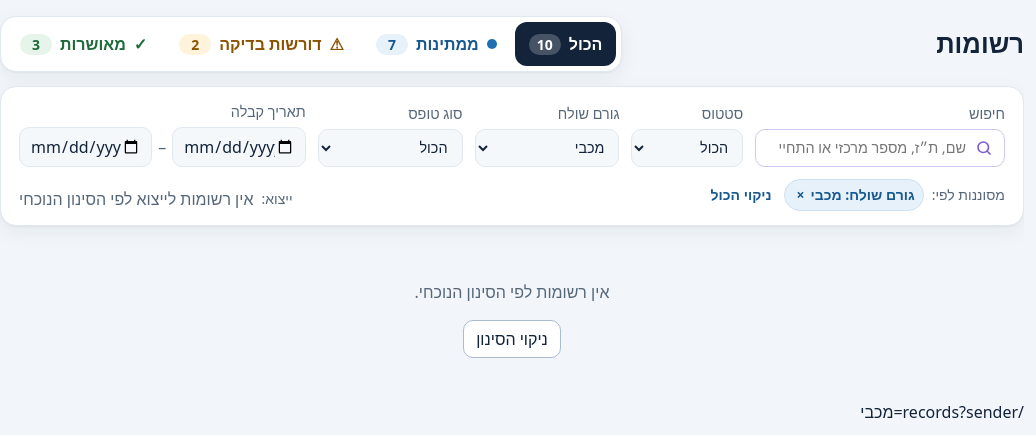
Test: RecordsPage › nothing under the filters says so, and offers to clear them
Expected: the text "אין רשומות לפי הסינון הנוכחי." is shown, x1=414 y1=281 x2=609 y2=303
Click the button "ניקוי הסינון". click: (512, 339)
box: x1=463 y1=320 x2=561 y2=358
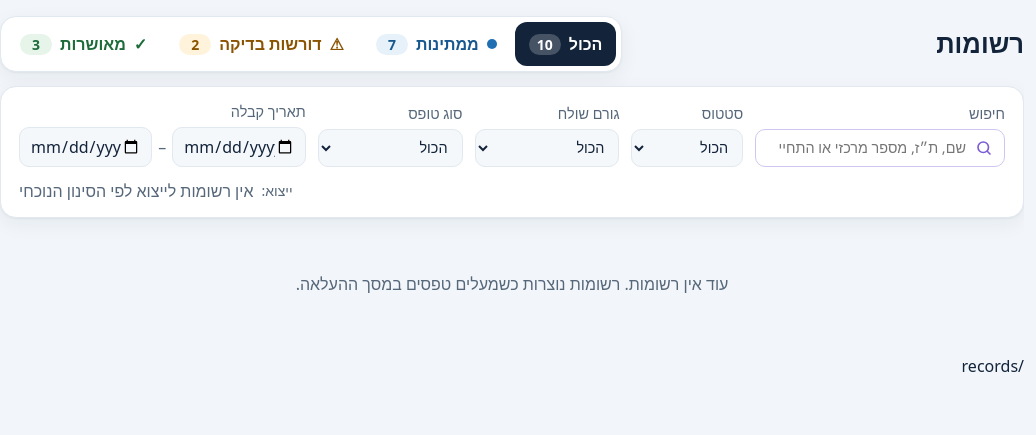
Expected: the text with test id "where" reads "/records", x1=962 y1=355 x2=1024 y2=377
